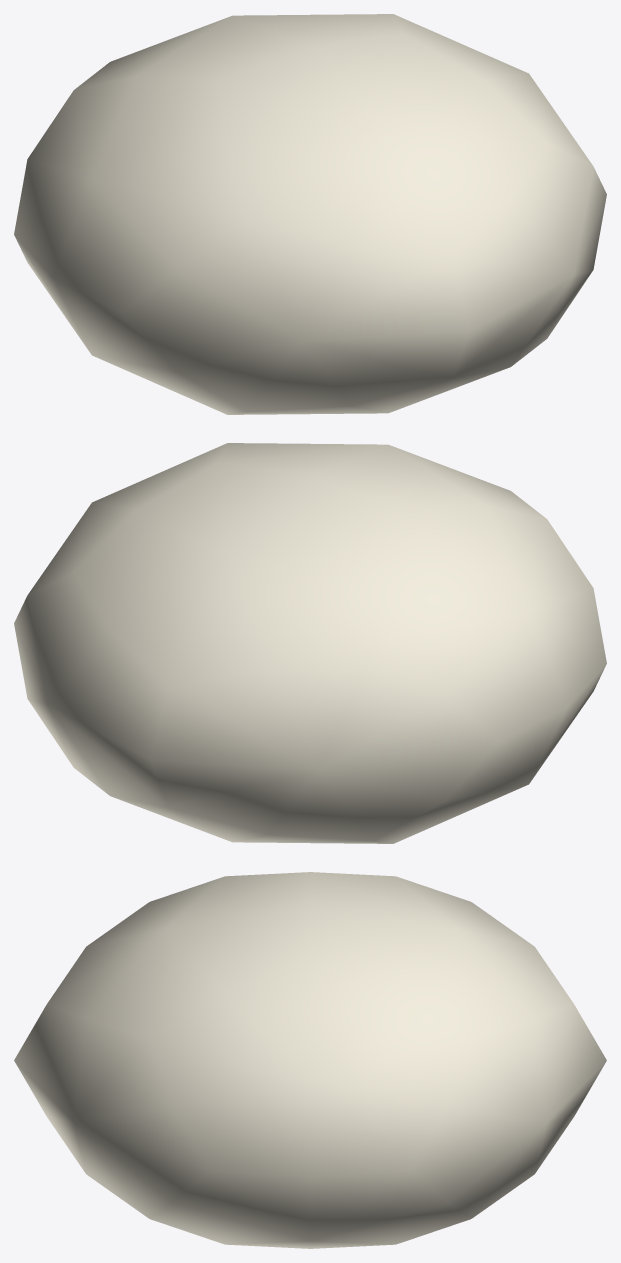
The model's file is BongDa_Xep.glb.
3 renders of one model, top to bottom at view 1: azimuth 30°, elevation 25°; view 2: azimuth 150°, elevation 25°; view 3: azimuth 270°, elevation 25°, orthographic. The views are drawn at different scales.
Parts seen in each view (by area): view 1: geometry_0; view 2: geometry_0; view 3: geometry_0.
Boxes of the visible parts, box(x1,y1,x2,y2) form: geometry_0: box(14, 14, 606, 414); geometry_0: box(14, 443, 606, 843); geometry_0: box(14, 872, 606, 1248).
Size of the model in its own units: 0.1638 by 0.1016 by 0.1756.
